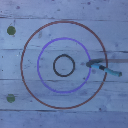Axe Tip: (89, 60, 101, 62)
